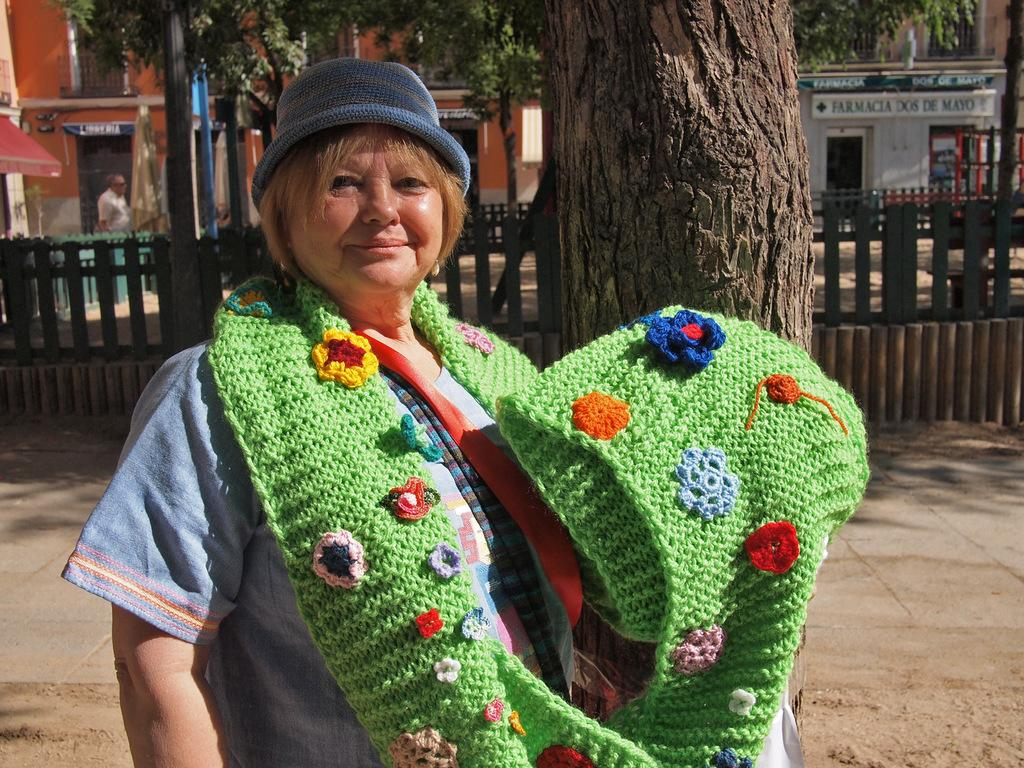Hat: (252, 57, 468, 211)
